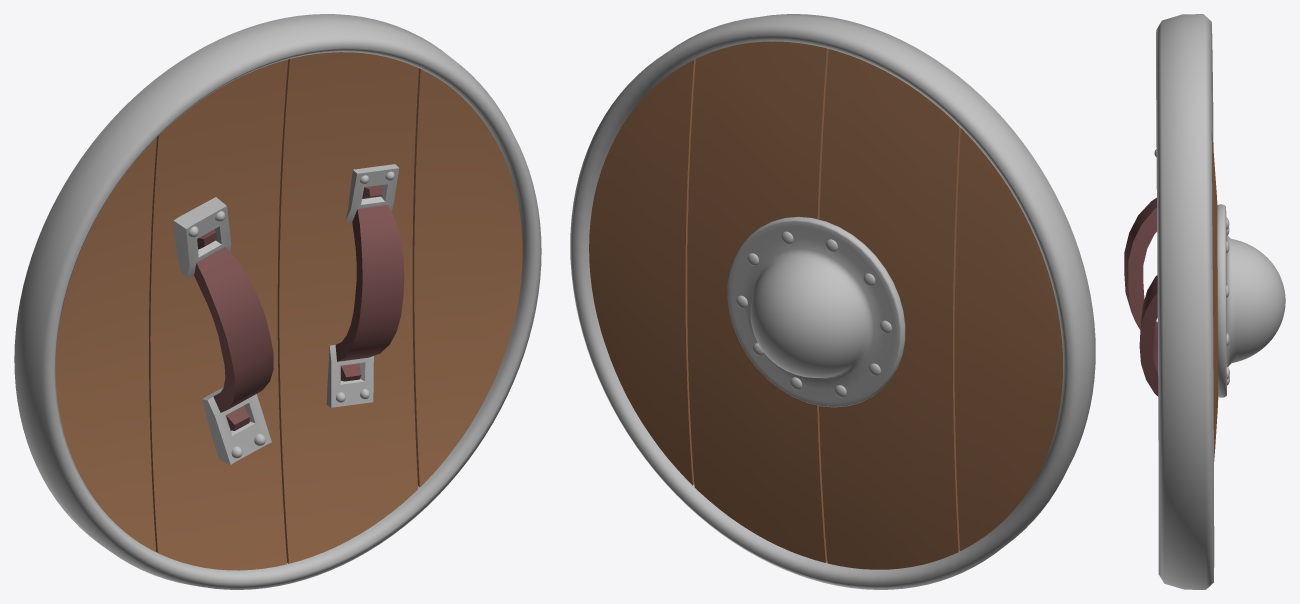
3 renders of one model, left to right at view 1: azimuth 30°, elevation 25°; view 2: azimuth 150°, elevation 25°; view 3: azimuth 270°, elevation 25°, orthographic. The views are drawn at different scales.
Parts seen in each view (by area): view 1: Plank, MetalBorder, Plank2, Plank3, Plank1, Handle (×2); view 2: Plank2, Plank, MetalBorder, Plank1, Plank3, Embark; view 3: MetalBorder, Embark, Handle (×2), Plank.
Part boxes in pixels (x1,y1,x2,y2): Plank: [277, 52, 418, 563]; MetalBorder: [14, 14, 541, 589]; Plank2: [149, 59, 288, 570]; Plank3: [412, 68, 522, 487]; Plank1: [55, 137, 156, 551]; Handle (×2): [173, 164, 404, 464]; Plank2: [819, 49, 960, 569]; Plank: [687, 41, 828, 562]; MetalBorder: [570, 14, 1095, 589]; Plank1: [954, 128, 1062, 550]; Plank3: [589, 59, 695, 485]; Embark: [727, 216, 905, 407]; MetalBorder: [1156, 14, 1214, 589]; Embark: [1217, 204, 1285, 397]; Handle (×2): [1124, 197, 1158, 396]; Plank: [1212, 151, 1218, 461].
Size of the model in its own units: 0.012 by 0.0124 by 0.00346.
